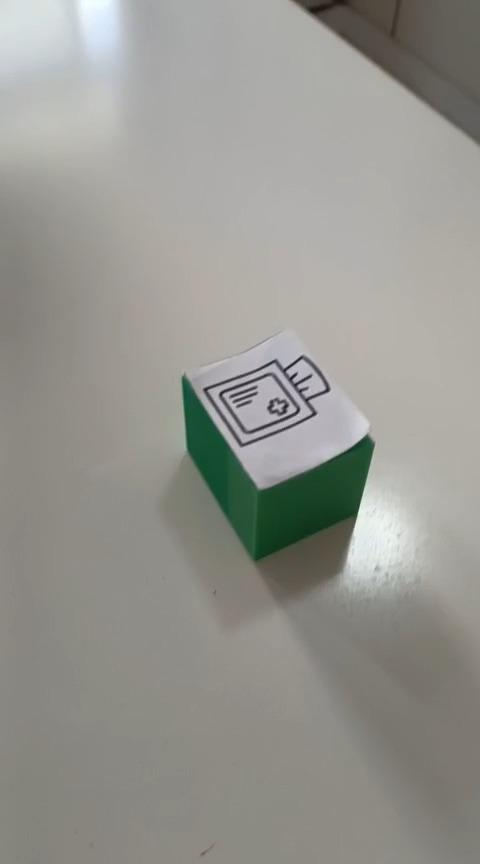Gauze: (179, 326, 376, 562)
